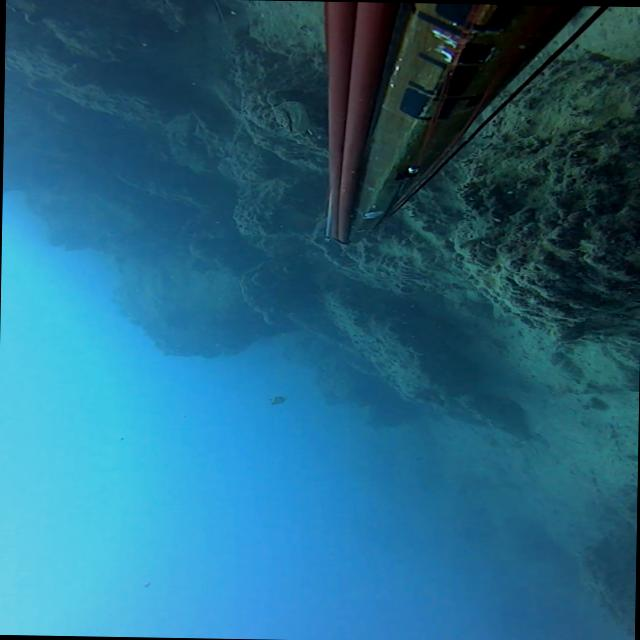Balon Baligi: (270, 99, 308, 134), (268, 395, 286, 403)
